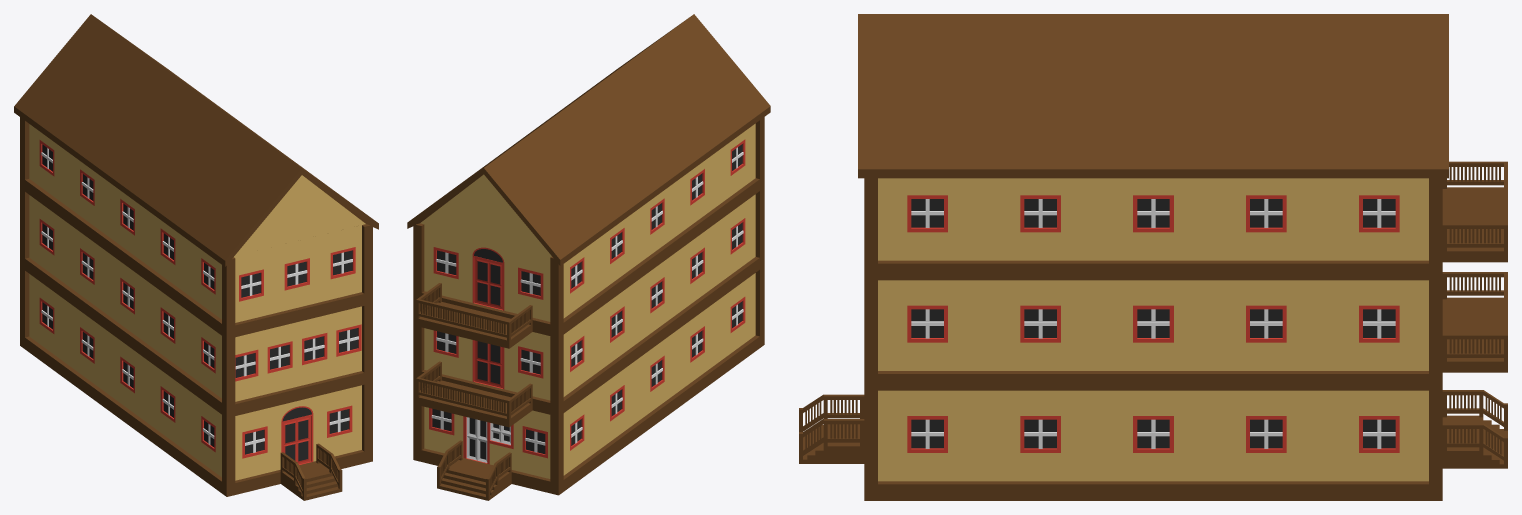
File: herenhuis4.fbx
3 renders of one model, left to right at view 1: azimuth 30°, elevation 25°; view 2: azimuth 150°, elevation 25°; view 3: azimuth 270°, elevation 25°, orthographic. The views are drawn at different scales.
Visible parts, largest first — view 1: building_001; view 2: building_001; view 3: building_001.
Part boxes in pixels (box(x1,y1,x2,y2)): building_001: box(14, 14, 378, 500); building_001: box(407, 14, 770, 500); building_001: box(799, 14, 1507, 500).
Bounding box in the file's own units: 609 × 1184 × 1740.
